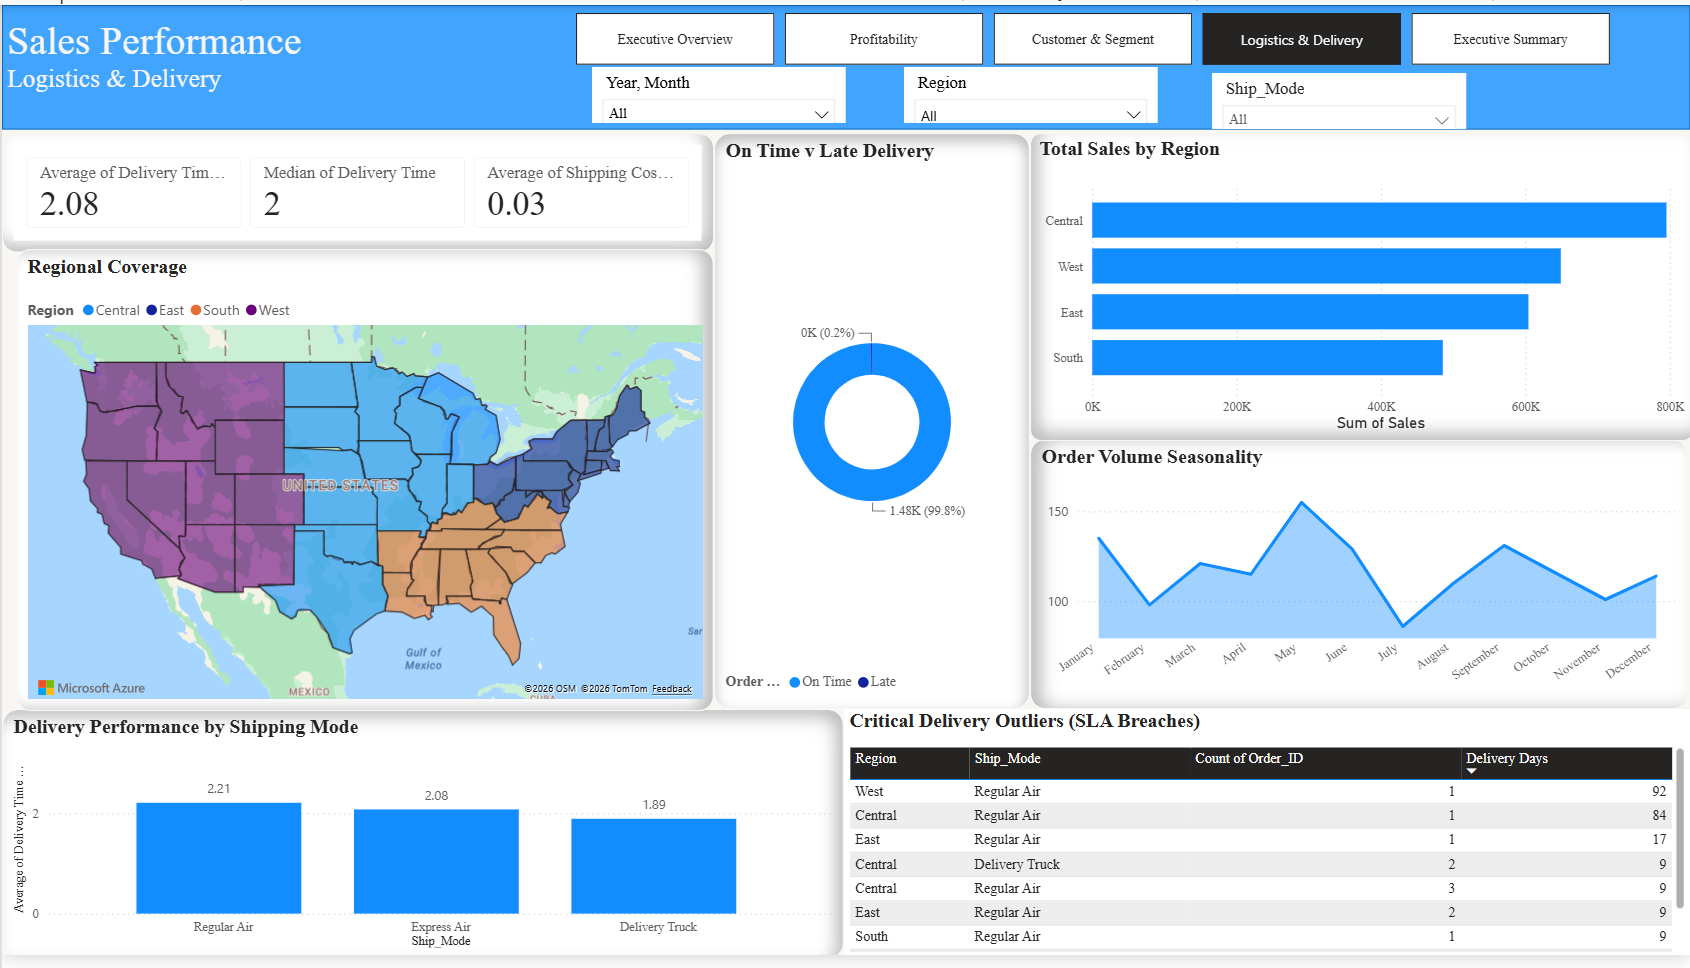

This screenshot's page, from the dashboard's own definition file:
{"tool":"powerbi","page":{"name":" Logistics & Delivery","canvas":[1600,900],"ordinal":3},"visuals":[{"type":"shape","box":[0,0,1600.4,118.1],"z":0},{"type":"textbox","box":[0,7.1,480.5,108.9],"z":1000},{"type":"slicer","fields":{"Values":["Working Sheet.Ship_Mode"]},"box":[1146.9,64.5,240.8,53.1],"z":2000},{"type":"cardVisual","fields":{"Data":["Avg(Working Sheet.Delivery Time (Days))","Median(Working Sheet.Delivery Time (Days)_1)","Avg(Working Sheet.Shipping Cost Ratio)"]},"box":[0,121.3,674.9,113.7],"z":3000},{"type":"areaChart","title":"Order Volume Seasonality","fields":{"Category":["sales.Order_Date.Variation.Date Hierarchy.Month"],"Y":["CountNonNull(sales.Order_ID)"]},"box":[974.4,411.4,623.7,255.9],"z":4000},{"type":"clusteredColumnChart","title":"Delivery Performance by Shipping Mode","fields":{"Category":["sales.Ship_Mode"],"Y":["Avg(Working Sheet.Delivery Time (Days)_1)"]},"box":[0,667.3,798.1,237],"z":5000},{"type":"azureMap","title":"Regional Coverage","fields":{"Category":["Working Sheet.State"],"Series":["Working Sheet.Region"]},"box":[13.3,231.3,661.6,437.9],"z":6000},{"type":"tableEx","title":"Critical Delivery Outliers (SLA Breaches)","fields":{"Values":["Working Sheet.Region","Working Sheet.Ship_Mode","CountNonNull(Working Sheet.Order_ID)","Working Sheet.Delivery Time (Days)_1"]},"box":[798.1,667.3,801.9,235.1],"z":7000},{"type":"pageNavigator","box":[543.8,7.8,982,49.3],"z":8000},{"type":"clusteredBarChart","title":"Total Sales by Region","fields":{"Category":["sales.Region"],"Y":["Sum(Working Sheet.Sales)"]},"box":[974.4,121.3,629.4,291.9],"z":9000},{"type":"slicer","fields":{"Values":["Working Sheet.Order_Date.Variation.Date Hierarchy.Year"]},"box":[559.2,58.8,240.6,52.8],"z":10000},{"type":"slicer","fields":{"Values":["Working Sheet.Region"]},"box":[855,58.8,240.6,52.8],"z":11000},{"type":"donutChart","title":"On Time v Late Delivery ","fields":{"Category":["Working Sheet.Order Delivery Time"],"Y":["CountNonNull(Working Sheet.Order_ID)"]},"box":[674.9,121.3,299.5,546],"z":11001}]}

Visuals, with their boxes in screenshot pixels (x1, y1, x2, y2), scaled from the page's 1600x900 canvas onto the 1690x968 screenshot:
shape: l=0, t=0, r=1689, b=127
textbox: l=0, t=8, r=508, b=125
slicer - Working Sheet.Ship_Mode: l=1211, t=69, r=1466, b=126
cardVisual - Avg(Working Sheet.Delivery Time (Days)) x Median(Working Sheet.Delivery Time (Days)_1): l=0, t=130, r=713, b=253
"Order Volume Seasonality" areaChart: l=1029, t=442, r=1688, b=718
"Delivery Performance by Shipping Mode" clusteredColumnChart: l=0, t=718, r=843, b=967
"Regional Coverage" azureMap: l=14, t=249, r=713, b=720
"Critical Delivery Outliers (SLA Breaches)" tableEx: l=843, t=718, r=1689, b=967
pageNavigator: l=574, t=8, r=1612, b=61
"Total Sales by Region" clusteredBarChart: l=1029, t=130, r=1689, b=444
slicer - Working Sheet.Order_Date.Variation.Date Hierarchy.Year: l=591, t=63, r=845, b=120
slicer - Working Sheet.Region: l=903, t=63, r=1157, b=120
"On Time v Late Delivery " donutChart: l=713, t=130, r=1029, b=718
